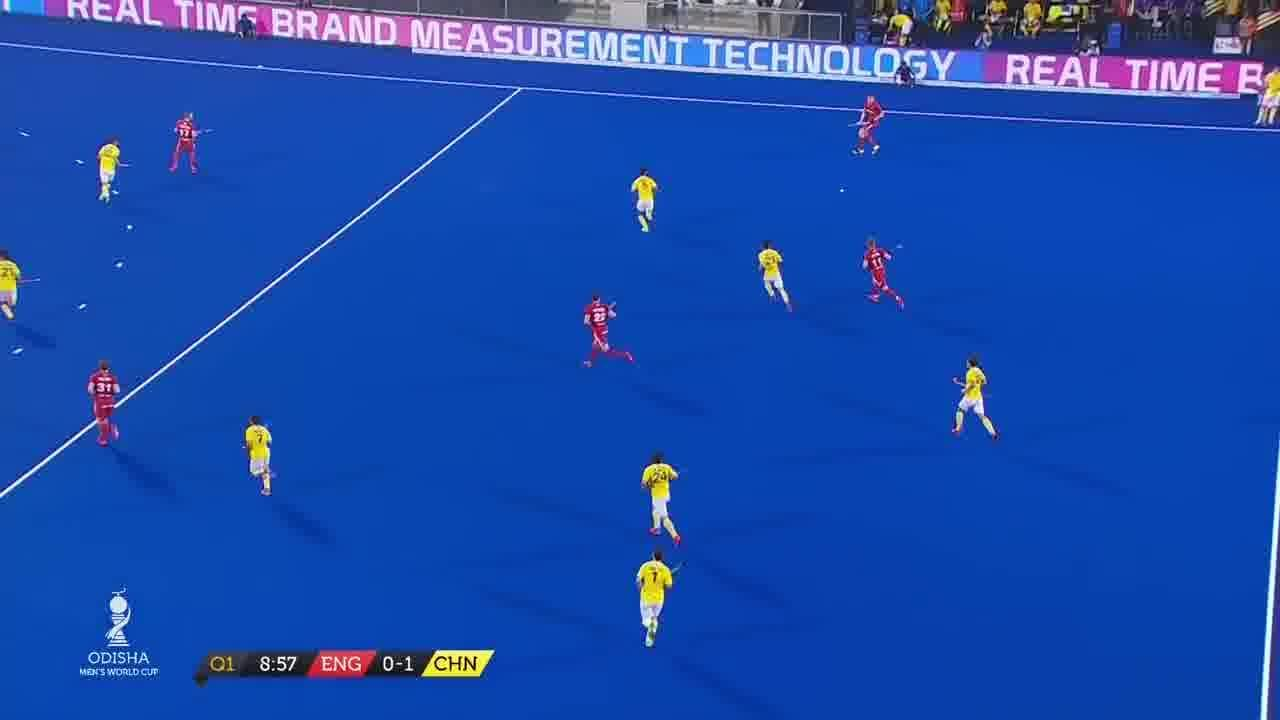ball: (834, 183, 850, 197)
